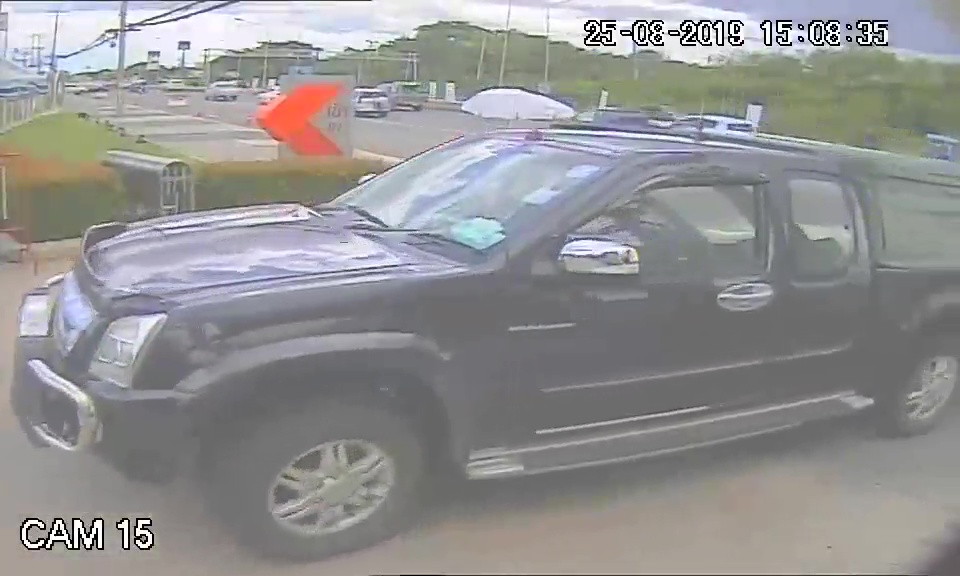pickup: (24, 117, 891, 502)
